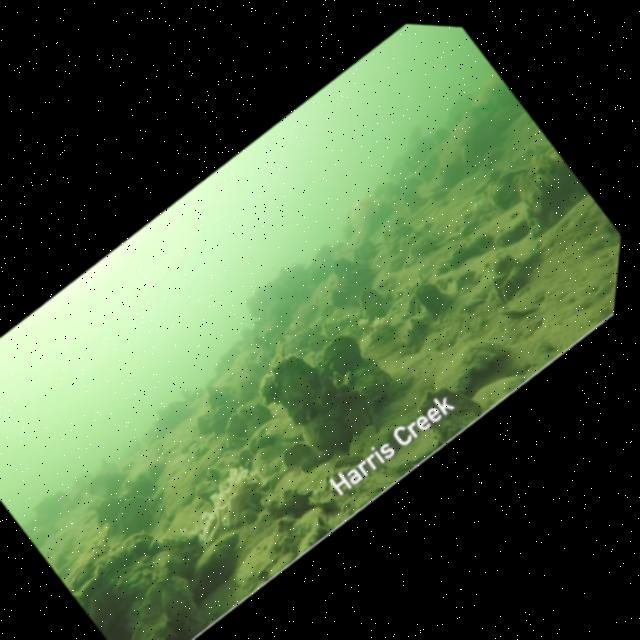Oyster-Closed: (48, 517, 136, 600), (374, 406, 461, 488), (495, 284, 547, 334), (388, 306, 436, 351), (191, 472, 228, 509)
Oyster-Indeterminate: (494, 145, 592, 239), (426, 320, 520, 408), (252, 342, 342, 430), (406, 367, 492, 449), (218, 523, 298, 598), (455, 352, 534, 427), (177, 519, 252, 589), (306, 323, 375, 389), (107, 480, 173, 543), (240, 340, 305, 401), (483, 200, 544, 258), (272, 427, 330, 482), (302, 464, 360, 519), (487, 250, 544, 303), (150, 568, 205, 621), (406, 272, 458, 323), (126, 572, 178, 622), (120, 445, 173, 494), (82, 457, 134, 506), (88, 482, 137, 529), (440, 259, 487, 304), (418, 316, 466, 360), (255, 476, 301, 520), (288, 496, 334, 539), (425, 152, 471, 195), (446, 132, 491, 175), (233, 391, 276, 433), (125, 462, 168, 502), (393, 180, 435, 220), (203, 396, 244, 436), (491, 156, 533, 195), (482, 178, 523, 217), (289, 520, 329, 558), (334, 256, 373, 294), (459, 225, 498, 263), (404, 226, 444, 263), (437, 238, 476, 275), (486, 244, 525, 281), (481, 268, 519, 305), (218, 405, 256, 441), (198, 375, 234, 410), (299, 258, 336, 292), (347, 232, 383, 266), (188, 403, 223, 437), (324, 248, 359, 282), (367, 311, 402, 344), (340, 313, 371, 344), (384, 217, 416, 247), (322, 281, 352, 310), (214, 455, 244, 483), (229, 443, 258, 470), (240, 433, 267, 459), (302, 327, 329, 353), (252, 426, 278, 451), (226, 427, 250, 451), (201, 461, 226, 484), (315, 298, 339, 321), (334, 378, 352, 396)
Oyster-Open: (339, 272, 400, 331), (325, 438, 377, 489), (235, 502, 260, 527), (339, 368, 359, 387), (241, 456, 256, 471)
